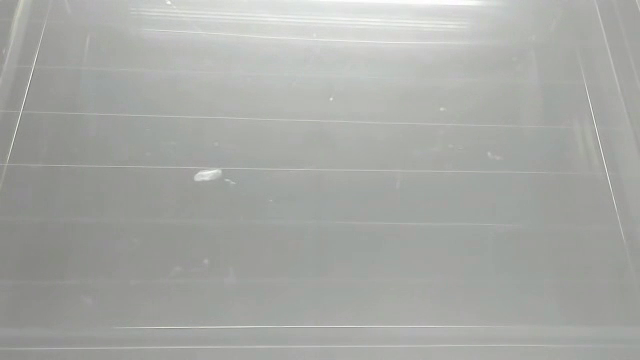alpha: (190, 166, 228, 184)
